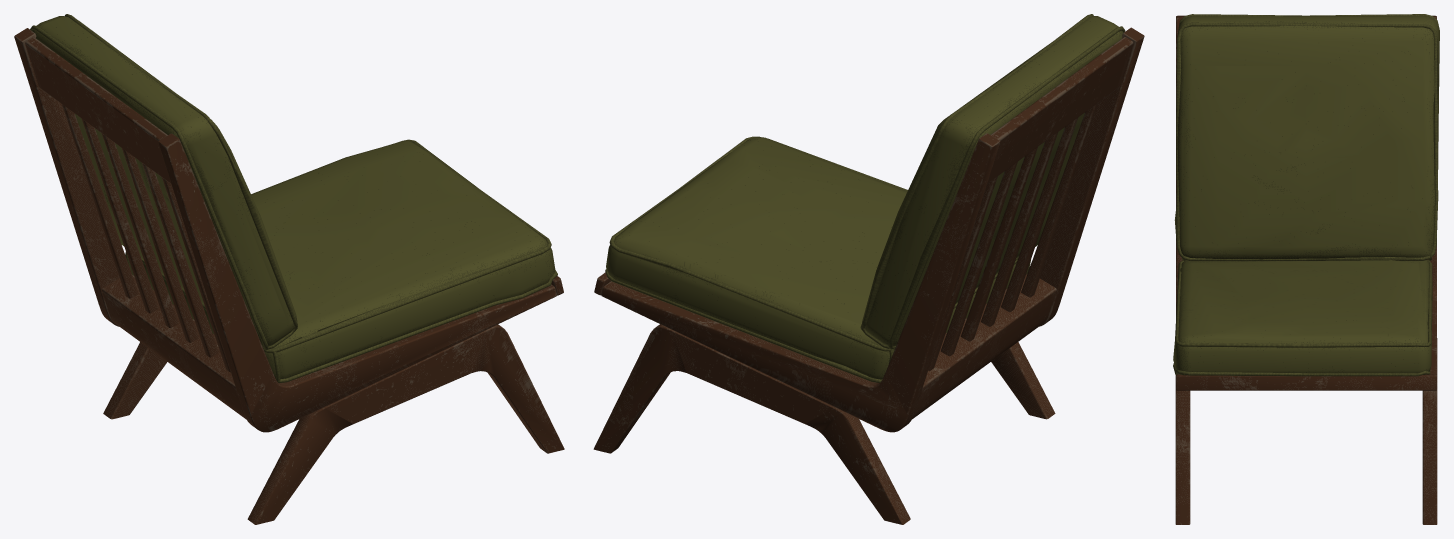
Rendered from mdl_hub_vintagechair.gltf.
The picture shows the model from 3 angles, left to right: view 1: azimuth 30°, elevation 25°; view 2: azimuth 150°, elevation 25°; view 3: azimuth 270°, elevation 25°; orthographic projection. The views are drawn at different scales.
Visible parts, largest first — view 1: cushion 2 _cushions_0, Sides, cushion 1, Legs _chair_0, back _chair_0, top, Seat; view 2: cushion 2 _cushions_0, Sides, cushion 1, Legs _chair_0, back _chair_0, top, Seat; view 3: cushion 1, cushion 2 _cushions_0, Legs _chair_0, front _chair_0, Sides.
Boxes of the visible parts, x1,y1,x2,y2 form: cushion 2 _cushions_0: [125, 139, 557, 383]; Sides: [14, 28, 556, 432]; cushion 1: [30, 14, 297, 350]; Legs _chair_0: [103, 324, 564, 524]; back _chair_0: [61, 104, 230, 372]; top: [25, 37, 171, 183]; Seat: [102, 275, 246, 419]; cushion 2 _cushions_0: [605, 136, 1030, 382]; Sides: [601, 27, 1144, 432]; cushion 1: [860, 14, 1125, 349]; Legs _chair_0: [593, 324, 1055, 524]; back _chair_0: [928, 103, 1097, 370]; top: [987, 37, 1133, 183]; Seat: [912, 273, 1056, 419]; cushion 1: [1174, 14, 1439, 261]; cushion 2 _cushions_0: [1173, 260, 1432, 376]; Legs _chair_0: [1175, 338, 1437, 524]; front _chair_0: [1176, 374, 1436, 390]; Sides: [1176, 15, 1436, 374].
Size of the model in its own units: 1.3 by 1.29 by 0.8786.
2 materials, 2 textured.
